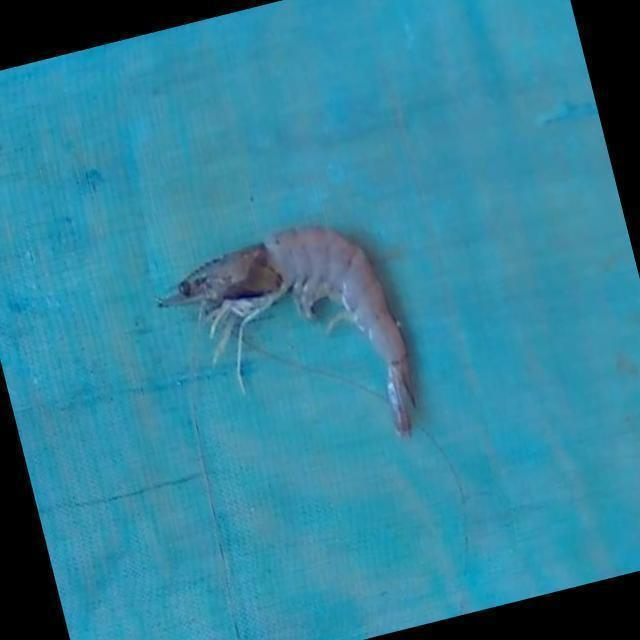shrimp: (159, 227, 414, 435)
